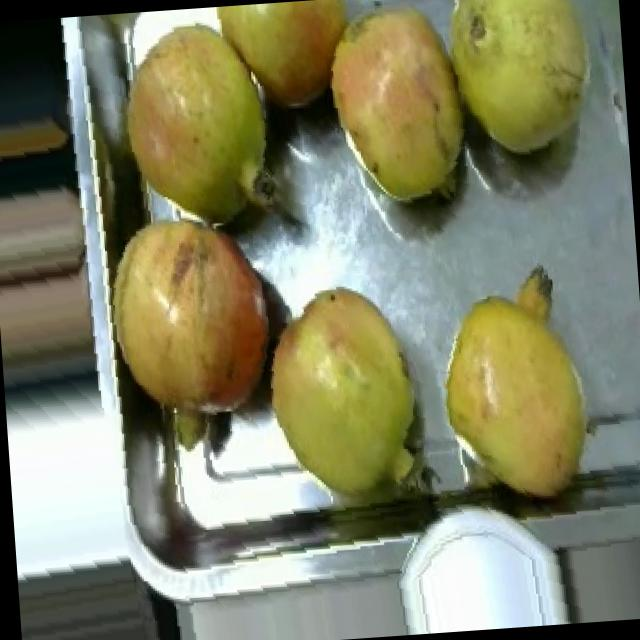fruit: (418, 248, 622, 520), (90, 196, 295, 464), (247, 261, 436, 515), (106, 2, 292, 240), (305, 0, 493, 235), (198, 0, 374, 131)
